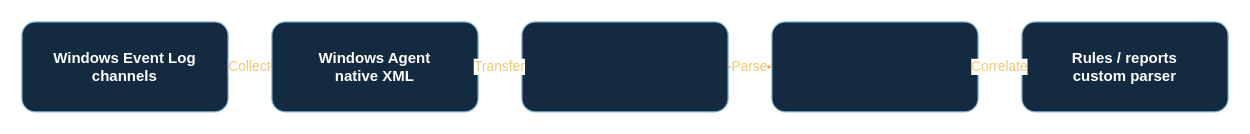
The diagram is 1250 pixels wide and 134 high, and some of its shapes have lost their labels. Here are the shapes that lost their labels. From the top down, the centre of each, then its label:
pixel 624 66: Collector WinOSXmlParser
pixel 874 66: Normalized event attributes
